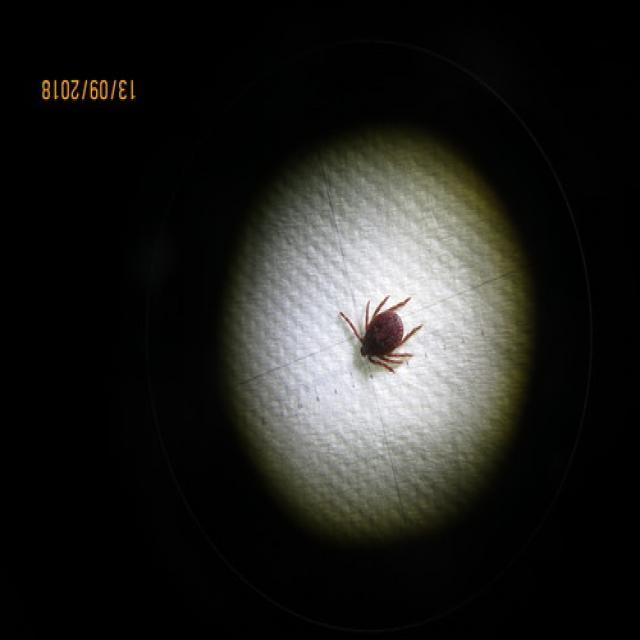Dermacentor Reticulatus-M: (338, 295, 424, 374)
